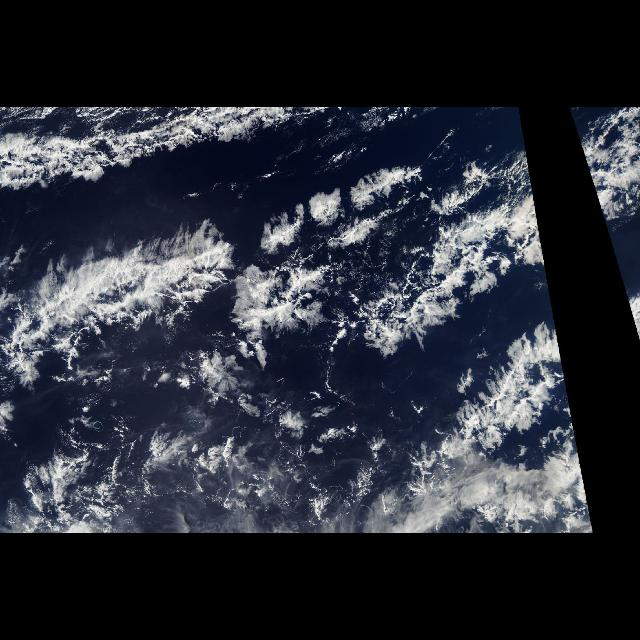Fish: (1, 107, 572, 483)
Gravel: (0, 395, 396, 533)
